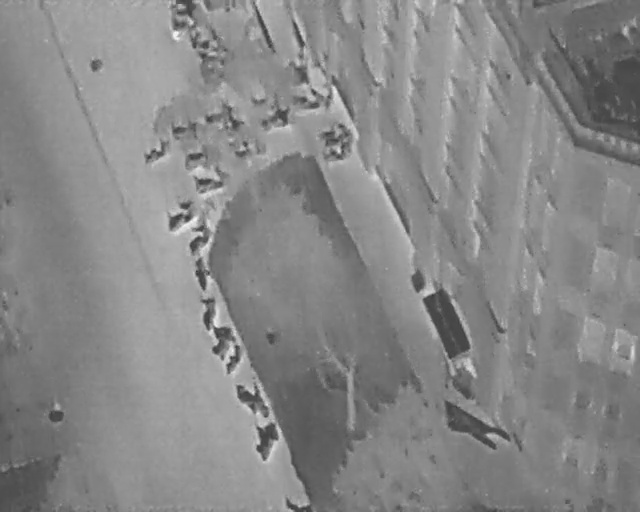Bicycle: (225, 370, 281, 428), (157, 195, 202, 238), (201, 97, 247, 138), (247, 416, 283, 464), (180, 218, 217, 260), (204, 319, 238, 363), (137, 134, 174, 169), (288, 83, 329, 114), (165, 114, 203, 146), (318, 136, 358, 166), (256, 104, 294, 134), (188, 168, 226, 197), (316, 119, 354, 146), (286, 55, 316, 89), (221, 340, 247, 379), (190, 254, 214, 293), (167, 13, 200, 40), (180, 147, 213, 171), (195, 47, 230, 68), (230, 137, 259, 162), (199, 296, 217, 332), (196, 34, 225, 52), (188, 25, 202, 49), (171, 0, 192, 16)
